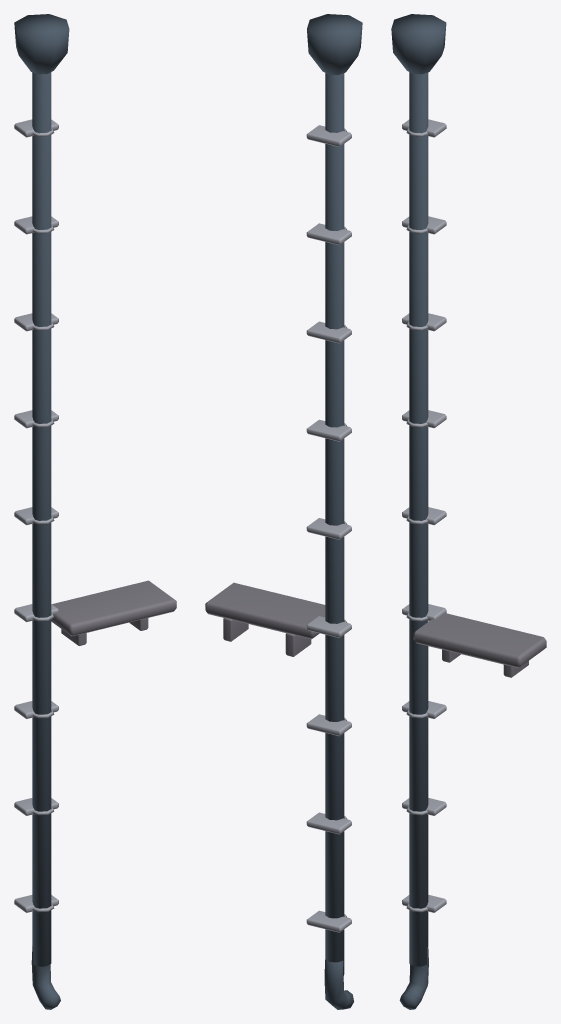
File: drainpipe.glb
3 renders of one model, left to right at view 1: azimuth 30°, elevation 25°; view 2: azimuth 150°, elevation 25°; view 3: azimuth 330°, elevation 25°, orthographic.
Visible parts, largest first — view 1: drainpipe; view 2: drainpipe; view 3: drainpipe.
Part boxes in pixels (x1,y1,x2,y2): drainpipe: (14, 14, 176, 1009); drainpipe: (205, 14, 362, 1009); drainpipe: (391, 14, 546, 1009).
Size of the model in its own units: 0.93 by 6.05 by 0.36.
